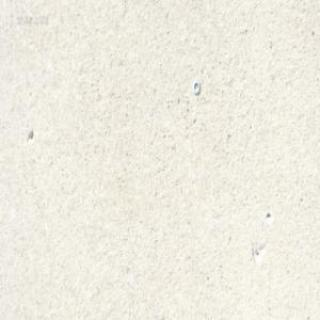Washertrack_idkeyframe: (192, 79, 200, 94)
